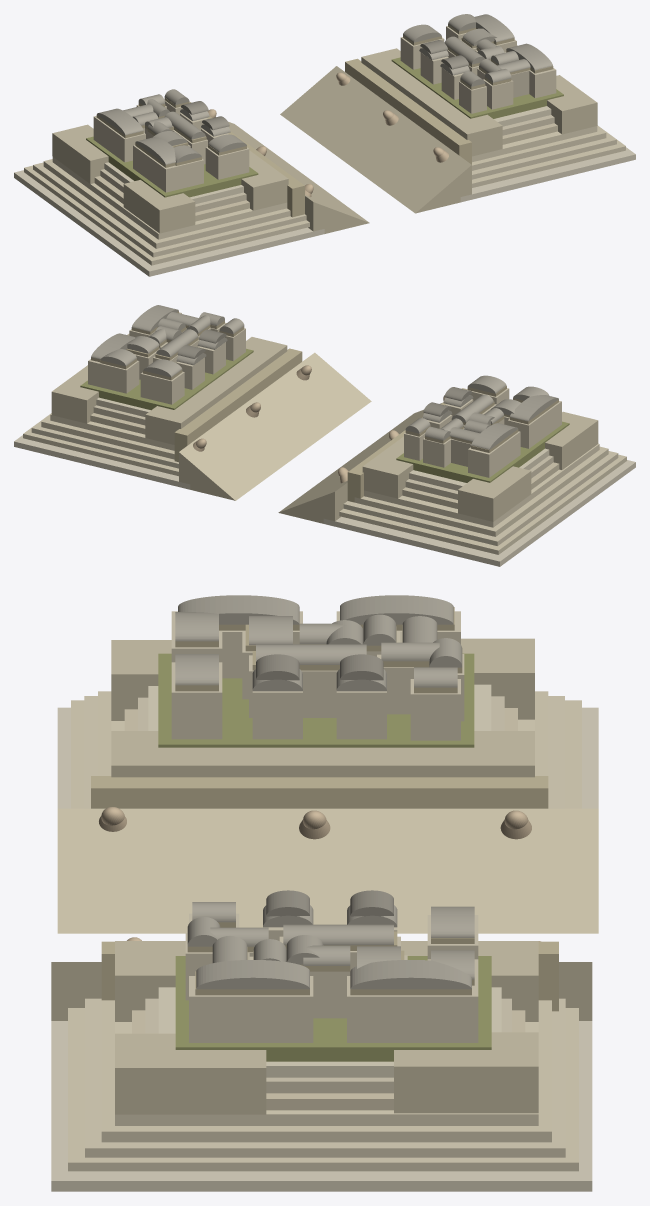
The model's file is CampoFutbolMaya.glb.
3 renders of one model, top to bottom at view 1: azimuth 30°, elevation 25°; view 2: azimuth 150°, elevation 25°; view 3: azimuth 270°, elevation 25°, orthographic. The views are drawn at different scales.
Parts seen in each view (by area): view 1: Mesh_Mesh_head_geo.001_lambert2SG.001; view 2: Mesh_Mesh_head_geo.001_lambert2SG.001; view 3: Mesh_Mesh_head_geo.001_lambert2SG.001.
Part boxes in pixels (bbox=[...]): Mesh_Mesh_head_geo.001_lambert2SG.001: bbox=[14, 14, 635, 276]; Mesh_Mesh_head_geo.001_lambert2SG.001: bbox=[14, 305, 635, 566]; Mesh_Mesh_head_geo.001_lambert2SG.001: bbox=[51, 595, 598, 1191].
Size of the model in its own units: 0.1864 by 0.032 by 0.0911.
